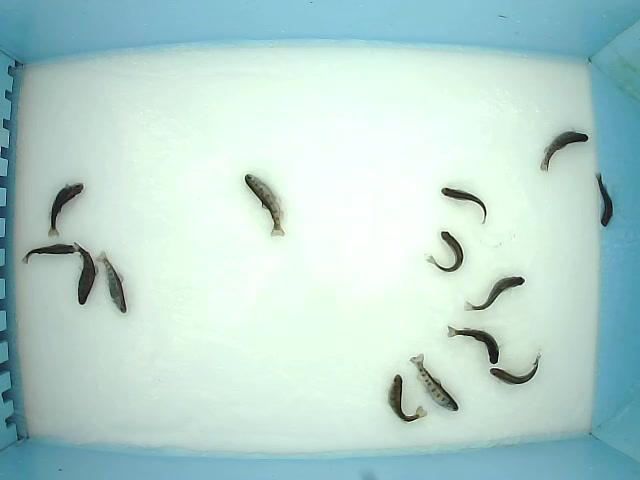fish: (409, 352, 459, 412), (244, 173, 286, 238), (539, 126, 589, 172), (463, 276, 526, 312), (446, 324, 500, 365), (47, 181, 85, 239), (96, 248, 128, 314), (387, 373, 428, 424), (489, 352, 542, 386), (73, 239, 99, 306), (440, 188, 487, 225), (425, 230, 465, 273), (20, 243, 77, 267), (594, 169, 615, 229)
